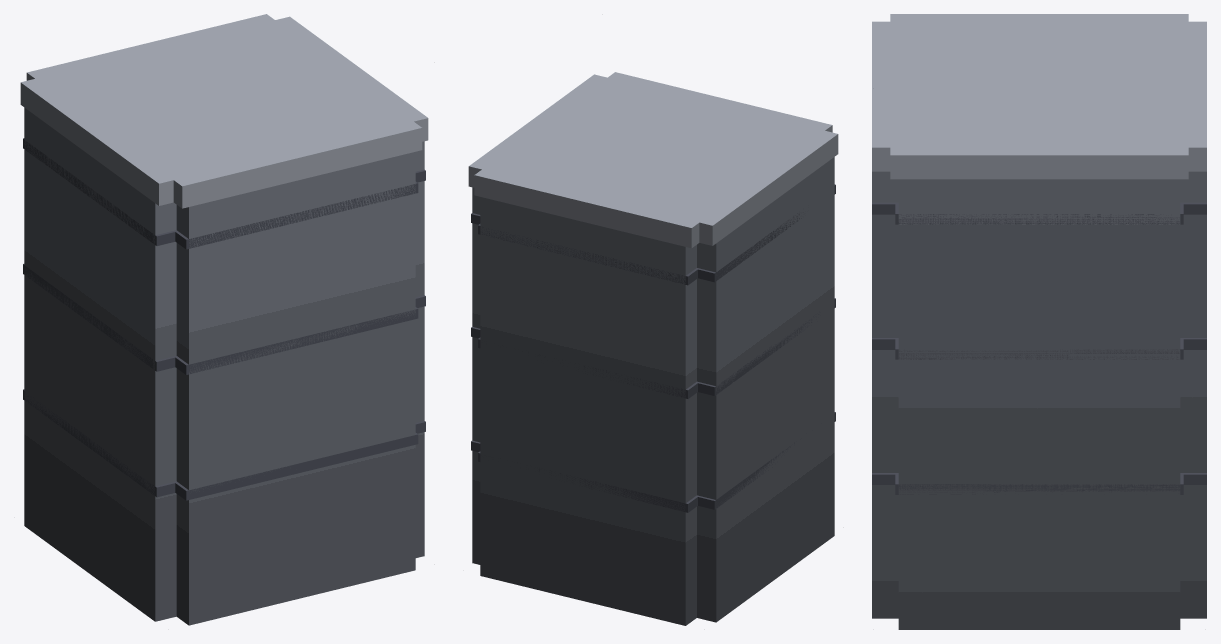
The model's file is perimeter_wall_metal_cross.glb.
The picture shows the model from 3 angles, left to right: view 1: azimuth 30°, elevation 25°; view 2: azimuth 150°, elevation 25°; view 3: azimuth 270°, elevation 25°; orthographic projection. The views are drawn at different scales.
Size of the model in its own units: 2.02 by 3.6 by 2.02.
Materials: 1 (1 with a texture image).
